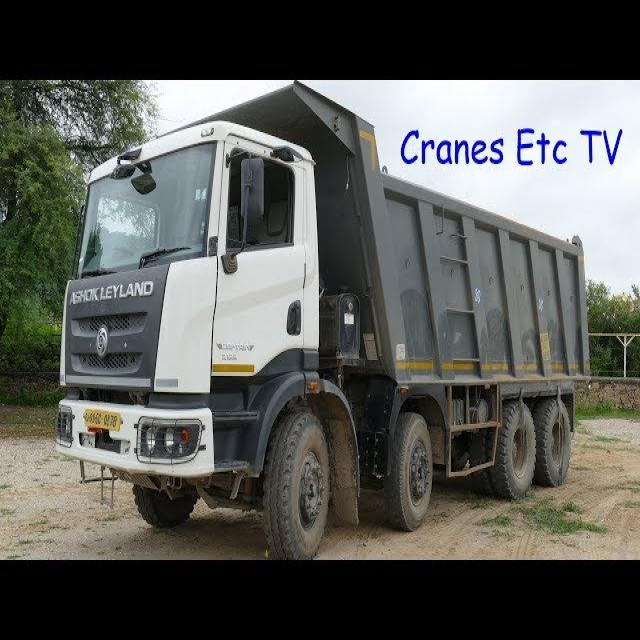truck: (56, 83, 589, 558)
